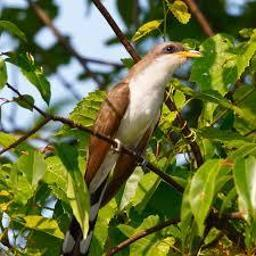Cuckoo: (59, 41, 203, 256)
